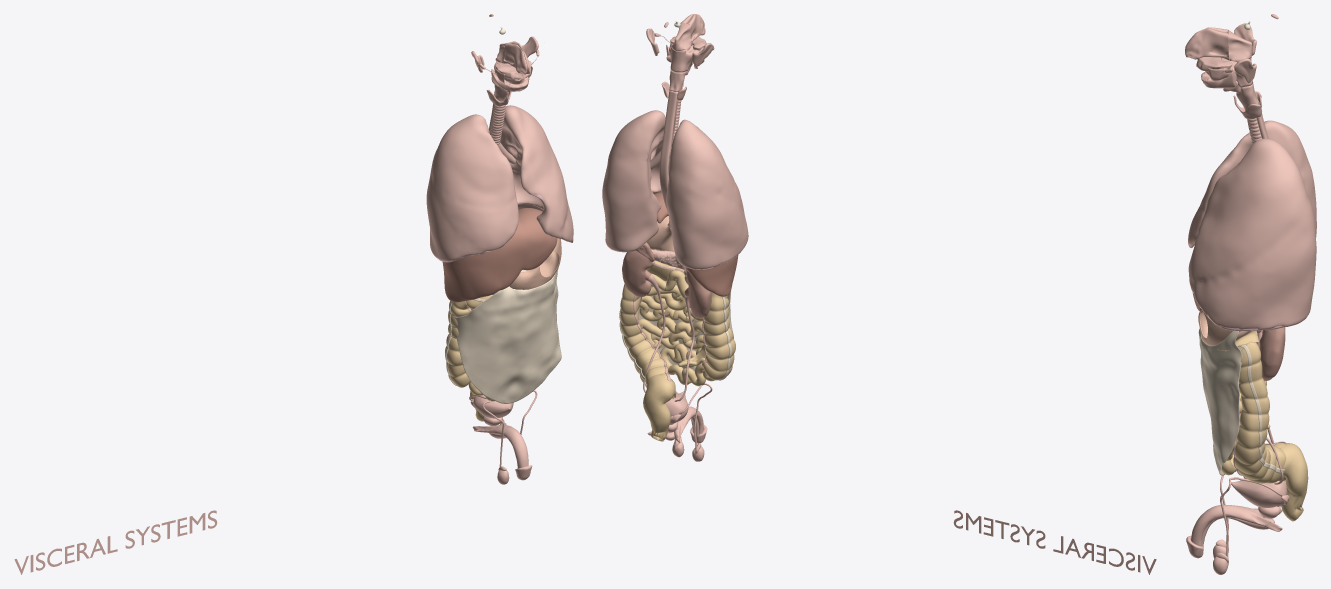
File: visceral.glb
The picture shows the model from 3 angles, left to right: view 1: azimuth 30°, elevation 25°; view 2: azimuth 150°, elevation 25°; view 3: azimuth 270°, elevation 25°; orthographic projection. The views are drawn at different scales.
Parts seen in each view (by area): view 1: Pleura.001, Greater omentum.001, Liver.001, Visceral systems.g.001, Ascending colon.001, Corpus cavernosum of penis.001, Stomach.001; view 2: Pleura.001, Jejunum.001, Ascending colon.001, Descending colon.001, Visceral systems.g.001, Sigmoid colon.001, Liver.001, Kidney.l.001, Oesophagus.001, Kidney.r.001; view 3: Pleura.001, Greater omentum.001, Descending colon.001, Sigmoid colon.001, Corpus cavernosum of penis.001, Mucosa of nasal cavity.001, Kidney.l.001, Urinary bladder.001, Gingiva.001, Mesocolic taenia.001, Nasopharynx.001, Stomach.001 (+13 smaller).
Boxes of the visible parts, box(x1,y1,x2,y2) form: Pleura.001: box(426, 105, 573, 261); Greater omentum.001: box(454, 269, 561, 403); Liver.001: box(442, 208, 557, 302); Visceral systems.g.001: box(14, 510, 217, 574); Ascending colon.001: box(445, 301, 470, 387); Corpus cavernosum of penis.001: box(472, 419, 528, 468); Stomach.001: box(509, 238, 561, 289); Pleura.001: box(602, 110, 748, 269); Jejunum.001: box(638, 273, 714, 386); Ascending colon.001: box(703, 292, 735, 380); Descending colon.001: box(620, 284, 675, 398); Visceral systems.g.001: box(953, 510, 1156, 574); Sigmoid colon.001: box(643, 374, 675, 441); Liver.001: box(654, 192, 738, 296); Kidney.l.001: box(622, 250, 652, 297); Oesophagus.001: box(659, 90, 678, 227); Kidney.r.001: box(686, 271, 711, 318); Pleura.001: box(1188, 120, 1316, 329); Greater omentum.001: box(1198, 329, 1242, 475); Descending colon.001: box(1234, 341, 1286, 483); Sigmoid colon.001: box(1280, 443, 1308, 521); Corpus cavernosum of penis.001: box(1191, 505, 1282, 546); Mucosa of nasal cavity.001: box(1185, 27, 1228, 60); Kidney.l.001: box(1259, 327, 1285, 380); Urinary bladder.001: box(1231, 479, 1286, 507); Gingiva.001: box(1196, 57, 1236, 88); Mesocolic taenia.001: box(1238, 344, 1284, 473); Nasopharynx.001: box(1228, 30, 1252, 61); Stomach.001: box(1198, 311, 1250, 345).
Size of the model in its own units: 1.13 by 0.8931 by 0.1926.
